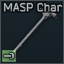AR-15 MASP Industries Ambidextrous Battle Charging Handle: (0, 0, 64, 64)
